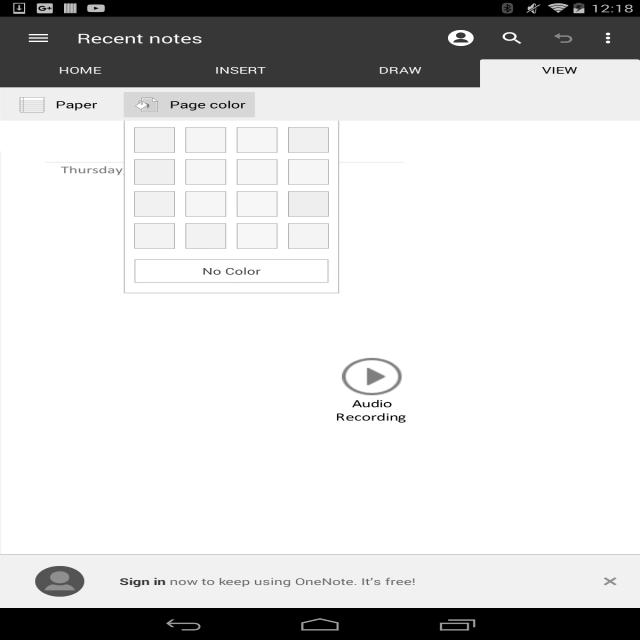ImageButton: (9, 17, 68, 59)
ImageView: (584, 555, 636, 608), (34, 566, 85, 598), (589, 22, 631, 54), (19, 96, 45, 112), (133, 96, 159, 112)
TextView: (120, 575, 584, 588), (76, 29, 202, 47), (487, 22, 538, 54), (436, 22, 486, 54), (538, 22, 588, 54), (170, 98, 245, 111), (214, 64, 266, 76), (56, 98, 97, 111), (378, 64, 422, 76), (59, 64, 101, 76), (542, 64, 577, 76), (0, 88, 1, 120)
